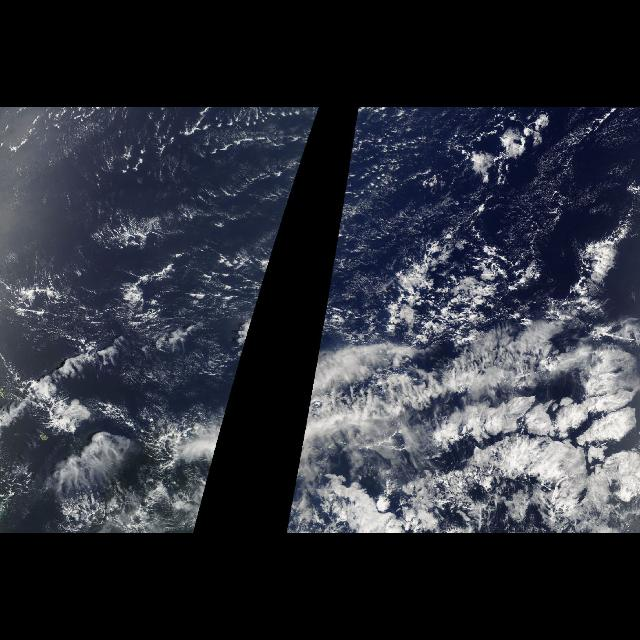Flower: (288, 317, 636, 533)
Gravel: (373, 222, 534, 352)
